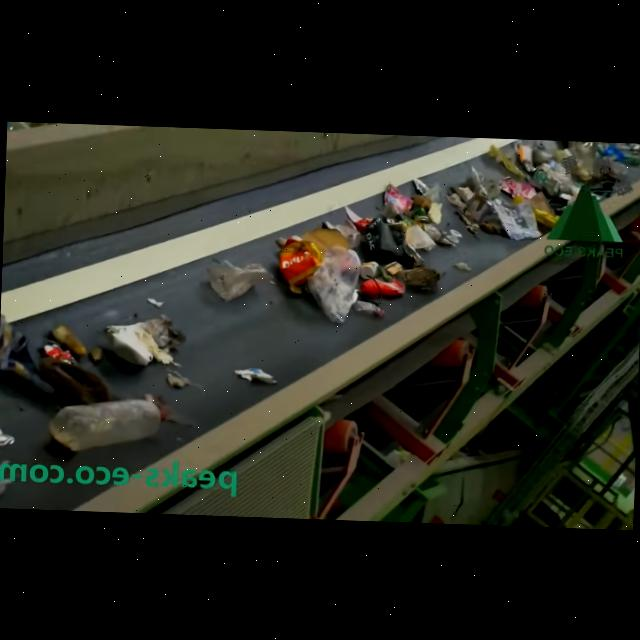trash: (46, 393, 166, 458), (348, 300, 386, 318)
